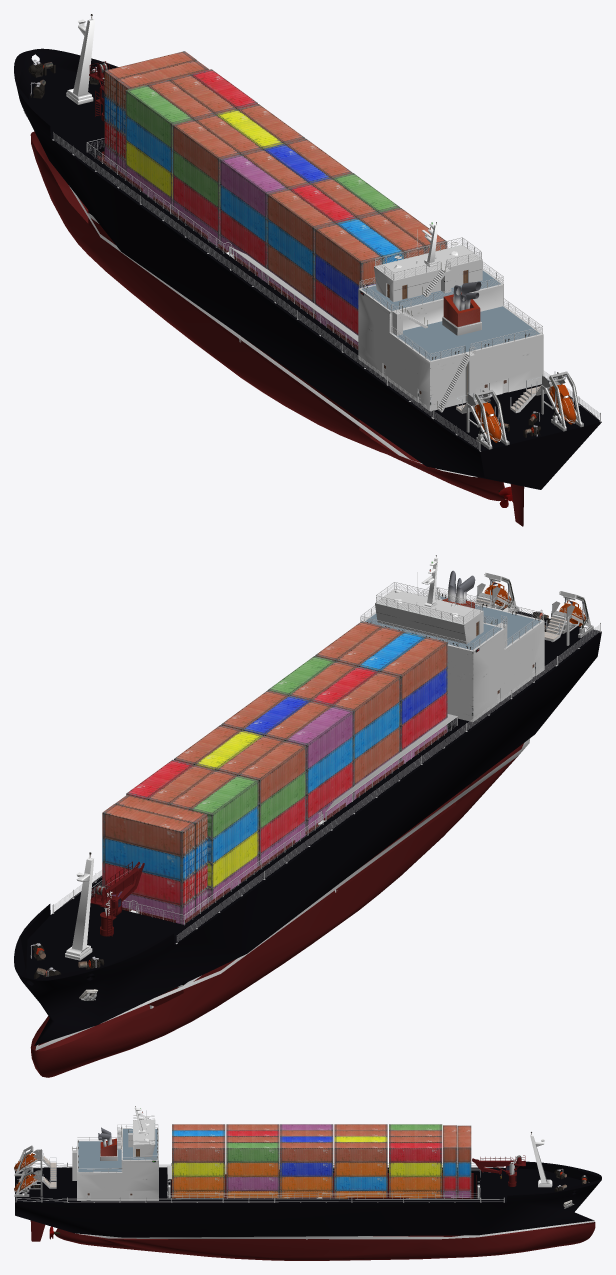
The model's file is ship.glb.
The picture shows the model from 3 angles, top to bottom: view 1: azimuth 30°, elevation 25°; view 2: azimuth 150°, elevation 25°; view 3: azimuth 270°, elevation 25°; orthographic projection. The views are drawn at different scales.
Visible parts, largest first — view 1: center; view 2: center; view 3: center.
Part boxes in pixels (x1,y1,x2,y2): center: (14,14,601,526); center: (14,555,601,1077); center: (14,1106,601,1260).
Bounding box in the file's own units: 18.99 × 34.47 × 131.
49 materials, 38 textured.
